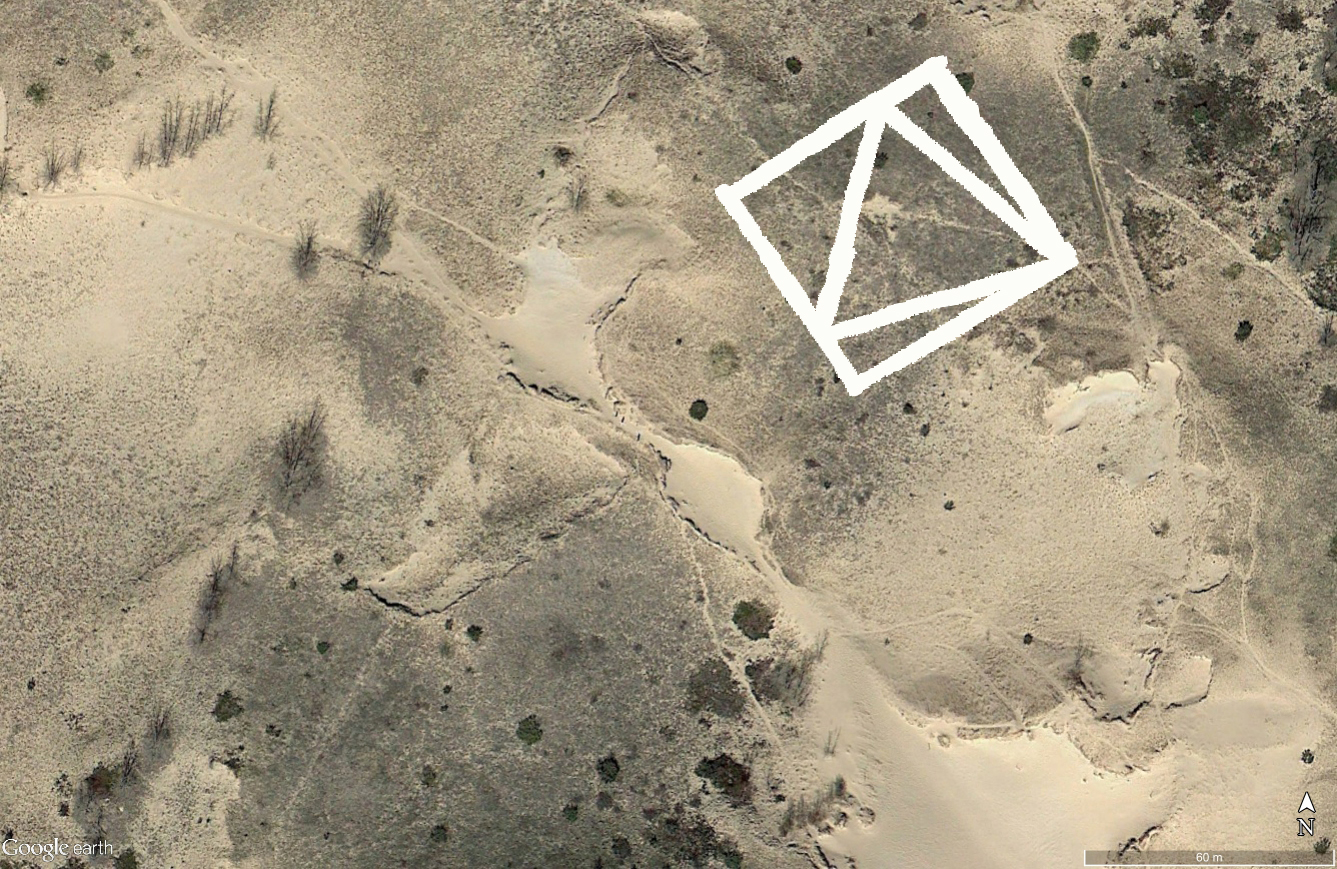marker: (704, 48, 1088, 409)
